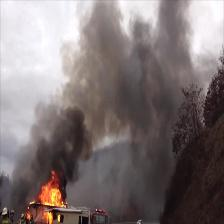fire: (25, 166, 68, 224)
